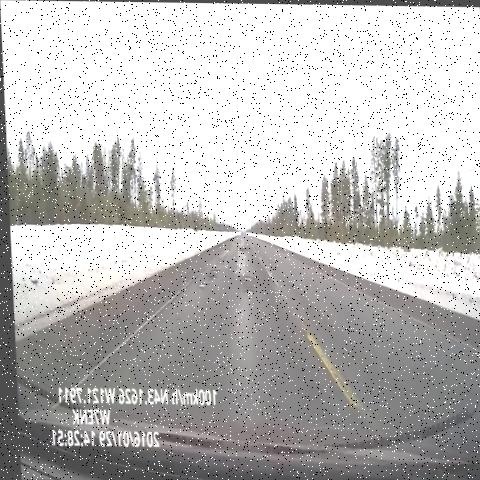pothole: (190, 276, 211, 298), (203, 263, 223, 286), (238, 271, 258, 287), (240, 287, 259, 303)
